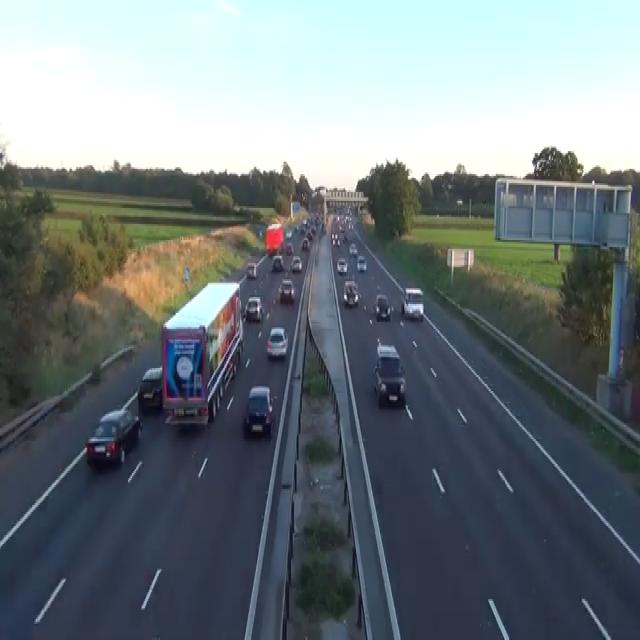Car: (85, 407, 141, 466), (372, 350, 405, 404), (243, 386, 274, 437), (138, 364, 163, 410), (401, 286, 424, 320), (266, 326, 288, 358), (121, 389, 141, 418), (244, 295, 264, 322), (373, 293, 392, 320), (376, 336, 398, 357), (343, 279, 359, 306), (278, 278, 295, 302), (246, 261, 257, 279), (290, 256, 302, 272), (356, 254, 366, 272), (336, 258, 347, 274), (272, 254, 283, 270), (91, 361, 100, 379), (349, 242, 357, 256), (331, 233, 340, 245), (301, 238, 310, 249), (285, 242, 293, 254), (270, 217, 280, 226), (306, 229, 313, 240), (285, 230, 292, 238), (339, 222, 344, 233), (348, 220, 353, 230), (310, 226, 316, 234), (343, 233, 348, 242), (455, 199, 462, 205), (258, 230, 262, 237)
Truck: (160, 281, 244, 427), (265, 222, 284, 254)
